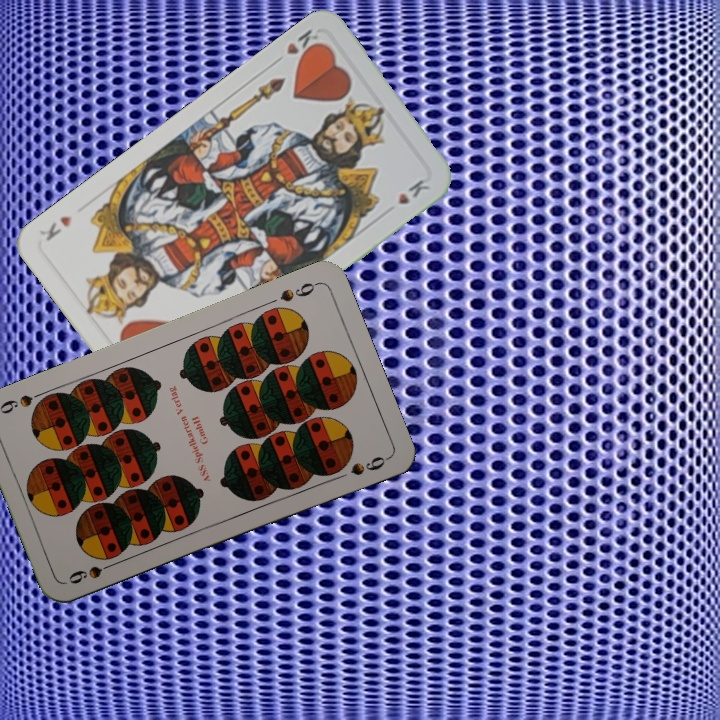HK: (269, 25, 325, 67)
S9: (64, 557, 121, 587), (276, 278, 321, 305)
